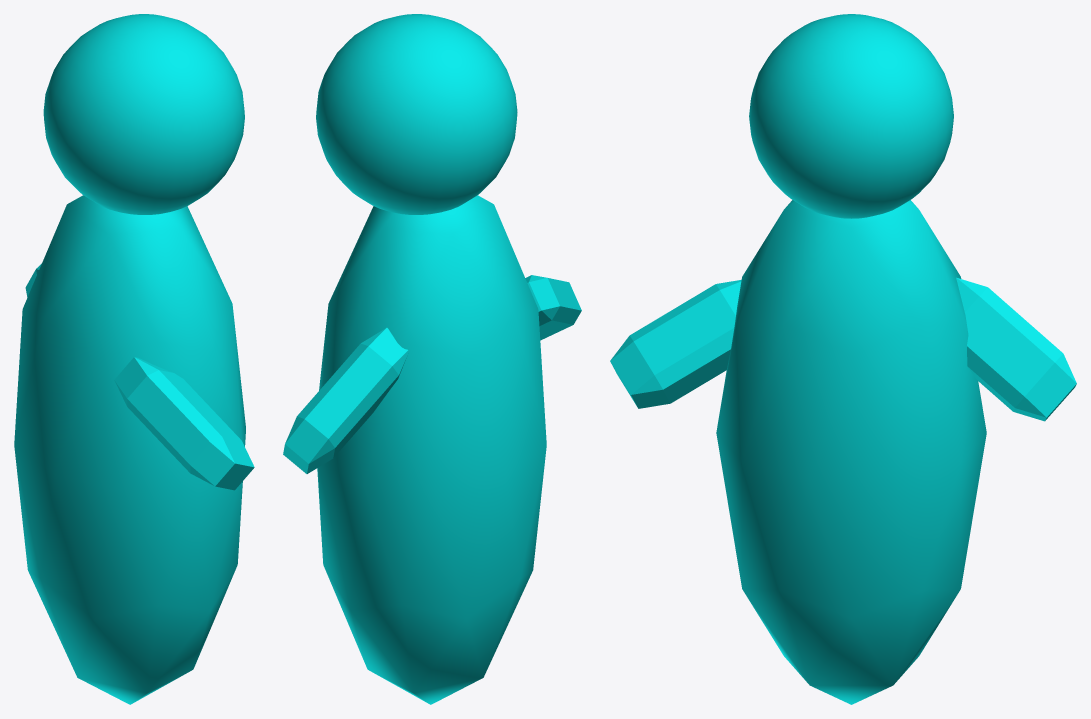
File: player.glb
3 renders of one model, left to right at view 1: azimuth 30°, elevation 25°; view 2: azimuth 150°, elevation 25°; view 3: azimuth 270°, elevation 25°, orthographic.
Visible parts, largest first — view 1: Icosphere, Sphere, Cube.001; view 2: Icosphere, Sphere, Cube, Cube.001; view 3: Icosphere, Sphere, Cube.001, Cube.
Boxes of the visible parts, box(x1,y1,x2,y2) form: Icosphere: box(14, 195, 245, 704); Sphere: box(43, 14, 244, 214); Cube.001: box(114, 357, 254, 490); Icosphere: box(317, 195, 546, 704); Sphere: box(316, 14, 517, 214); Cube: box(283, 328, 408, 473); Cube.001: box(525, 275, 581, 340); Icosphere: box(716, 200, 986, 704); Sphere: box(749, 14, 953, 218); Cube.001: box(610, 280, 741, 408); Cube: box(956, 277, 1076, 421).
Size of the model in its own units: 0.769 by 2.53 by 1.56.
